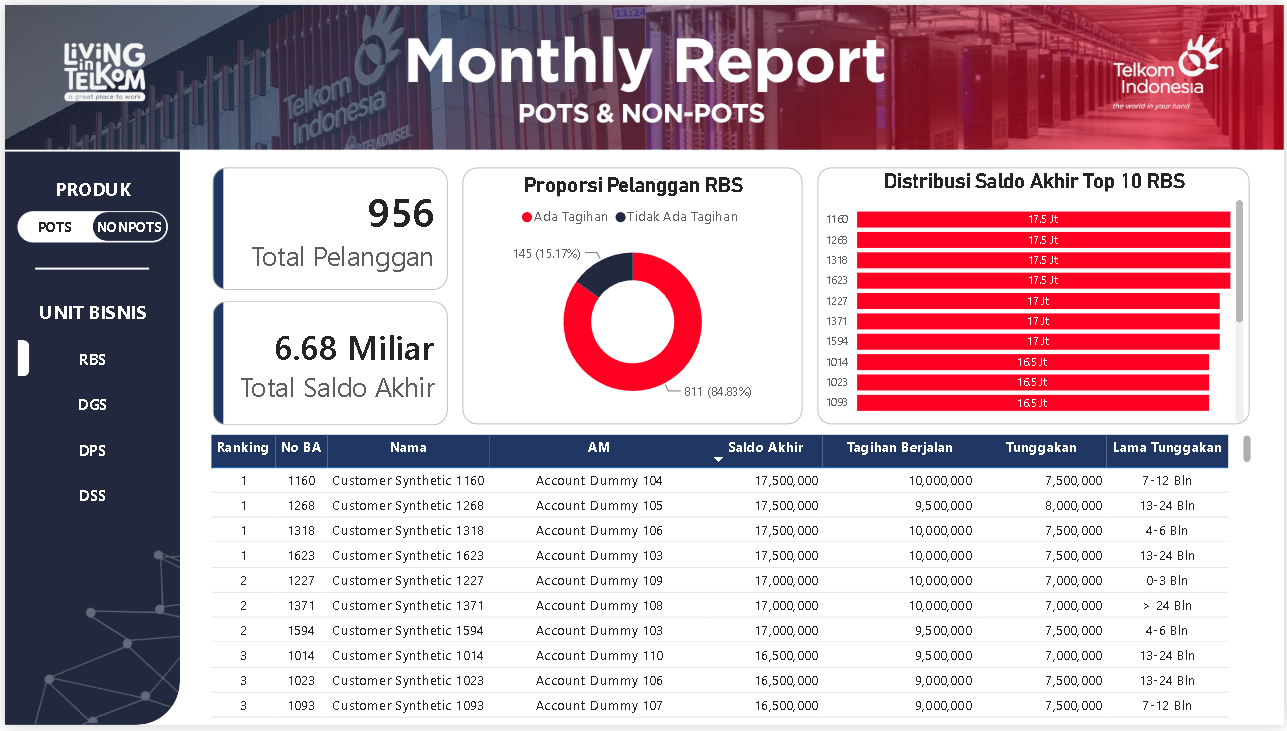

What the dashboard file says about the page in this screenshot:
{"tool":"powerbi","page":{"name":"NONPOTS","canvas":[1280,720],"ordinal":1},"visuals":[{"type":"shape","box":[0,146.2,175,573.8],"z":0},{"type":"image","box":[4.4,412.5,190,307.5],"z":1000},{"type":"pageNavigator","box":[12.1,206,150,31.4],"z":2000},{"type":"shape","box":[30,242.2,114.4,42.2],"z":3000},{"type":"textbox","box":[6.2,288.8,162.5,36.2],"z":4000},{"type":"textbox","box":[6.2,166.2,163.1,36.9],"z":5000},{"type":"actionButton","box":[12.6,330.9,150,45.7],"z":6000},{"type":"actionButton","box":[12.6,376.5,150,45.7],"z":7000},{"type":"actionButton","box":[12.7,422.3,150,45.7],"z":10000},{"type":"actionButton","box":[12.9,468.1,150,45.7],"z":12000},{"type":"shape","box":[12.9,472.4,12.4,36.7],"z":13000},{"type":"tableEx","title":"Tabel DSS","fields":{"Values":["NONPOTS.Ranking","NONPOTS.IDNumber","DETAIL NONPOTS.NAMA","DETAIL NONPOTS.AM","NONPOTS.Saldo Akhir","Sum(NONPOTS.Tagihan N)","NONPOTS.Tunggakan","NONPOTS.Lama Tunggakan"]},"box":[261.7,426.7,930,293.3],"z":21000},{"type":"donutChart","title":"Proporsi Pelanggan DSS","fields":{"Category":["NONPOTS.Kategori Saldo"],"Y":["CountNonNull(NONPOTS.Kategori Saldo)"]},"box":[456.9,163.1,340,256.7],"z":27000},{"type":"cardVisual","title":"Card Pelanggan DSS","fields":{"Data":["CountNonNull(NONPOTS.IDNumber)"]},"box":[206.9,162.3,235.7,122.9],"z":28000},{"type":"cardVisual","title":"Card Saldo DSS","fields":{"Data":["NONPOTS.DSS Total Saldo Akhir Display"]},"box":[206.9,296.2,235.7,124.3],"z":29000},{"type":"clusteredBarChart","title":"Distribusi Saldo Akhir Top 10 DSS","fields":{"Category":["NONPOTS.IDNumber"],"Y":["Sum(NONPOTS.Saldo Akhir)"]},"box":[813.1,163.1,432.3,256.9],"z":30000}]}

Visuals, with their boxes in screenshot pixels (x1, y1, x2, y2), scaled from the page's 1280x720 canvas onto the 1287x731 screenshot:
shape: bbox=[0, 148, 176, 730]
image: bbox=[4, 419, 195, 730]
pageNavigator: bbox=[12, 209, 163, 241]
shape: bbox=[30, 246, 145, 289]
textbox: bbox=[6, 293, 170, 330]
textbox: bbox=[6, 169, 170, 206]
actionButton: bbox=[13, 336, 163, 382]
actionButton: bbox=[13, 382, 163, 429]
actionButton: bbox=[13, 429, 164, 475]
actionButton: bbox=[13, 475, 164, 522]
shape: bbox=[13, 480, 25, 517]
"Tabel DSS" tableEx: bbox=[263, 433, 1198, 730]
"Proporsi Pelanggan DSS" donutChart: bbox=[459, 166, 801, 426]
"Card Pelanggan DSS" cardVisual: bbox=[208, 165, 445, 290]
"Card Saldo DSS" cardVisual: bbox=[208, 301, 445, 427]
"Distribusi Saldo Akhir Top 10 DSS" clusteredBarChart: bbox=[818, 166, 1252, 426]
